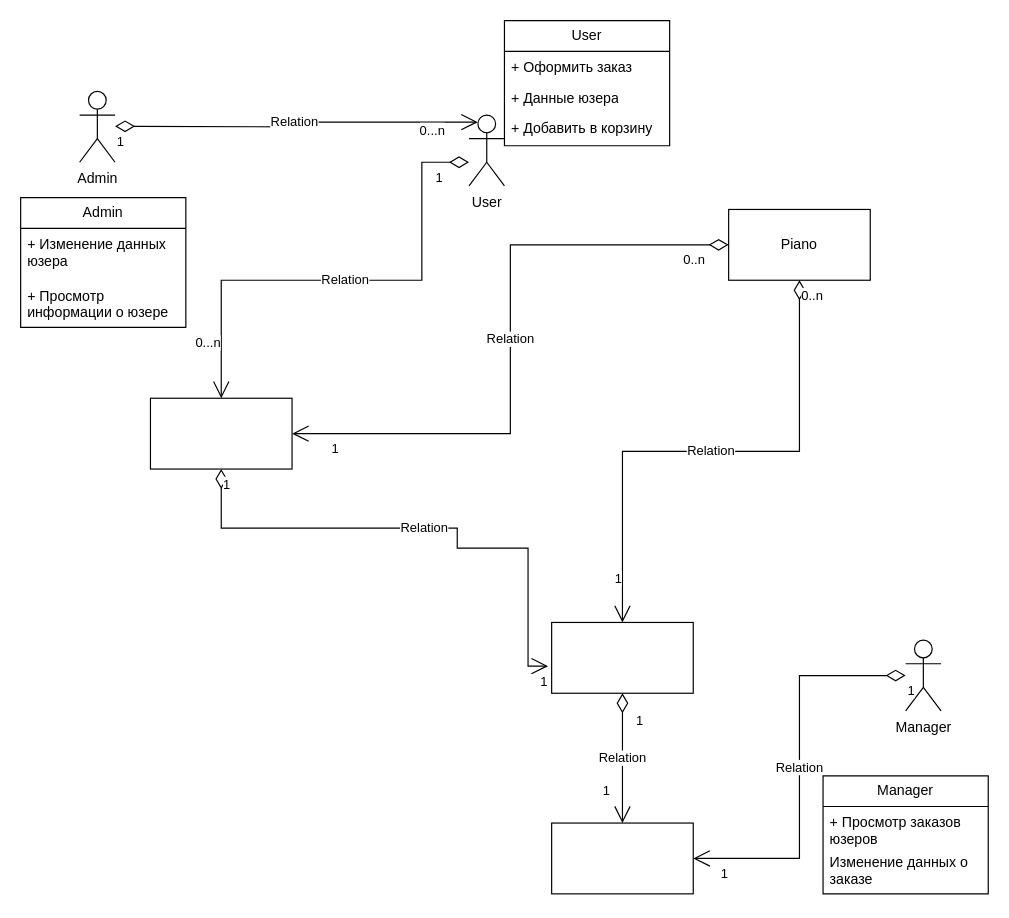
Image size: 1009x918. Some labels were removed from this diagram. The shapes that lost their labels are listed below. From the top down, each one's centre as x and y in pixels, then its label:
At pixel 220 433: "Order".
At pixel 621 657: "ShoppingCart".
At pixel 621 858: "Making an order".
